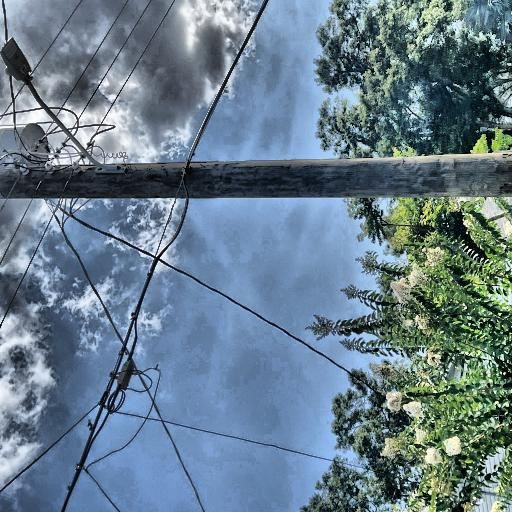insulator: (113, 0, 123, 10)
pole: (168, 0, 211, 512)
street light: (200, 110, 328, 256)
transformer: (202, 66, 250, 169)
